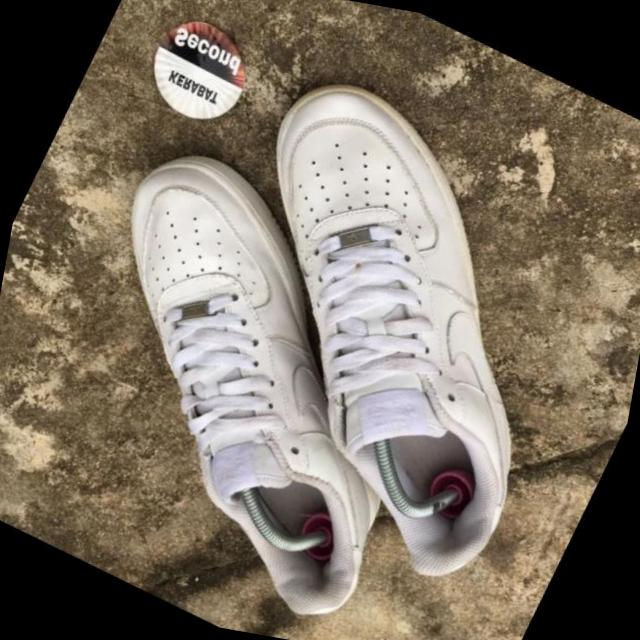nike_original_airforce: (107, 41, 640, 619), (0, 105, 519, 640)
